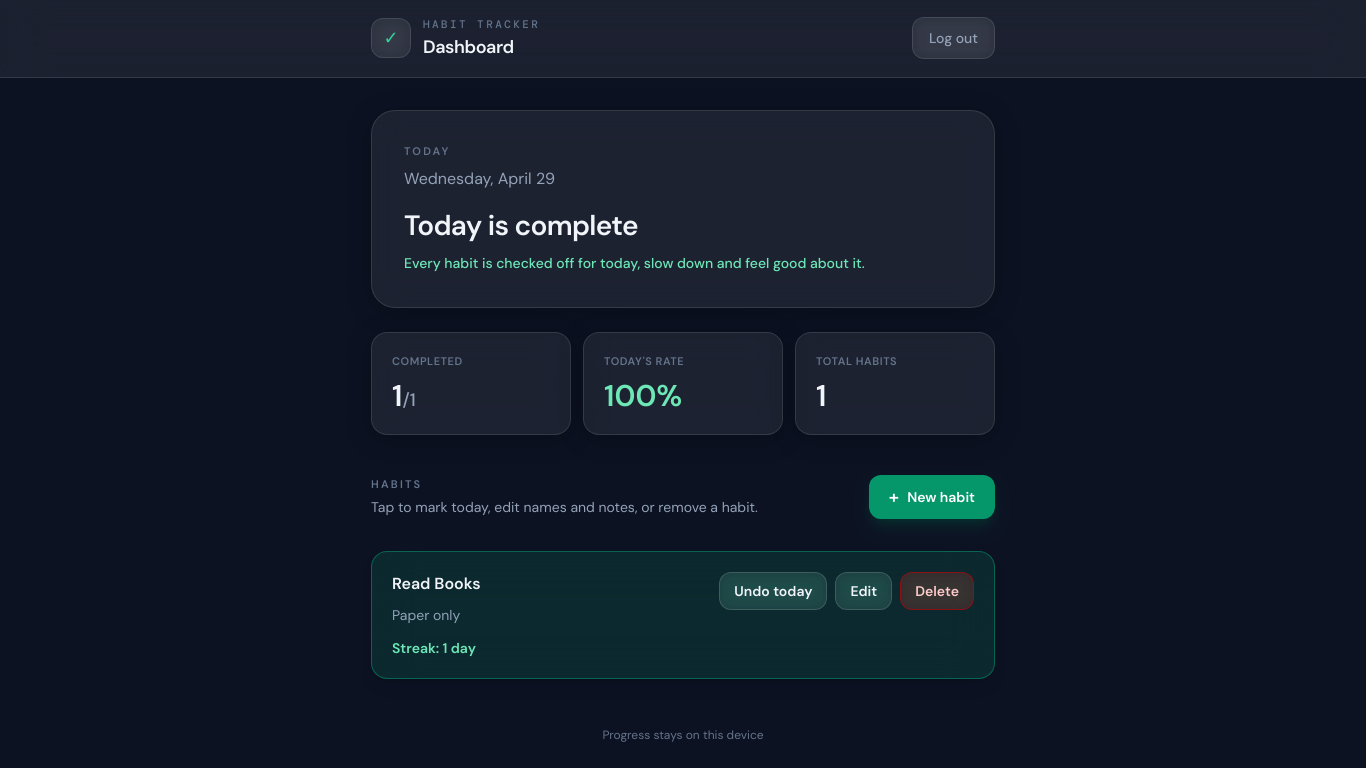
Test: habit form › edits an existing habit and preserves immutable fields
This screenshot has width=1366, height=768.
Expected: the element with test id "habit-card-read-books" is shown, [371, 551, 995, 679]
Step 1. Click the button with test id "habit-edit-read-books" → (864, 591), box [836, 572, 892, 610]
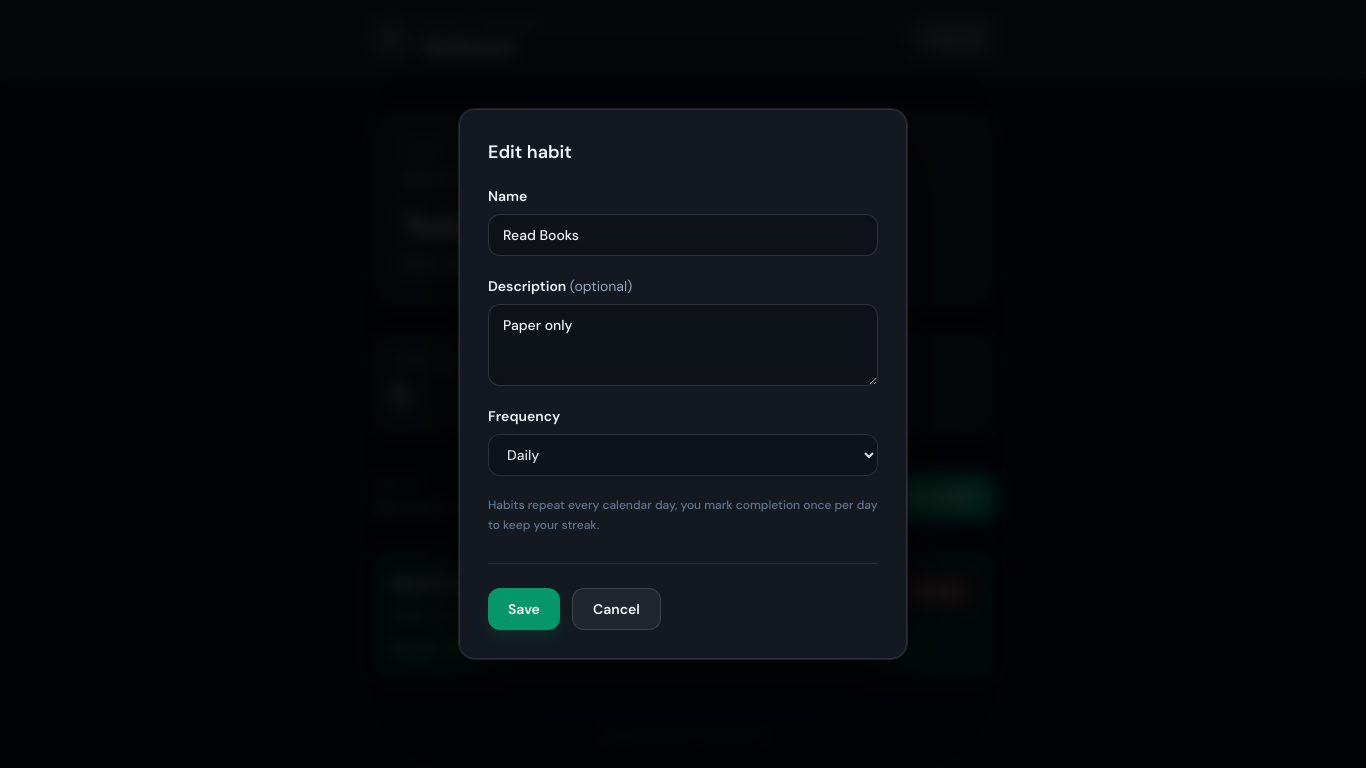
Step 2. Replace the text in the field with test id "habit-name-input" with "Read Novels" → (683, 235), box [488, 214, 878, 256]
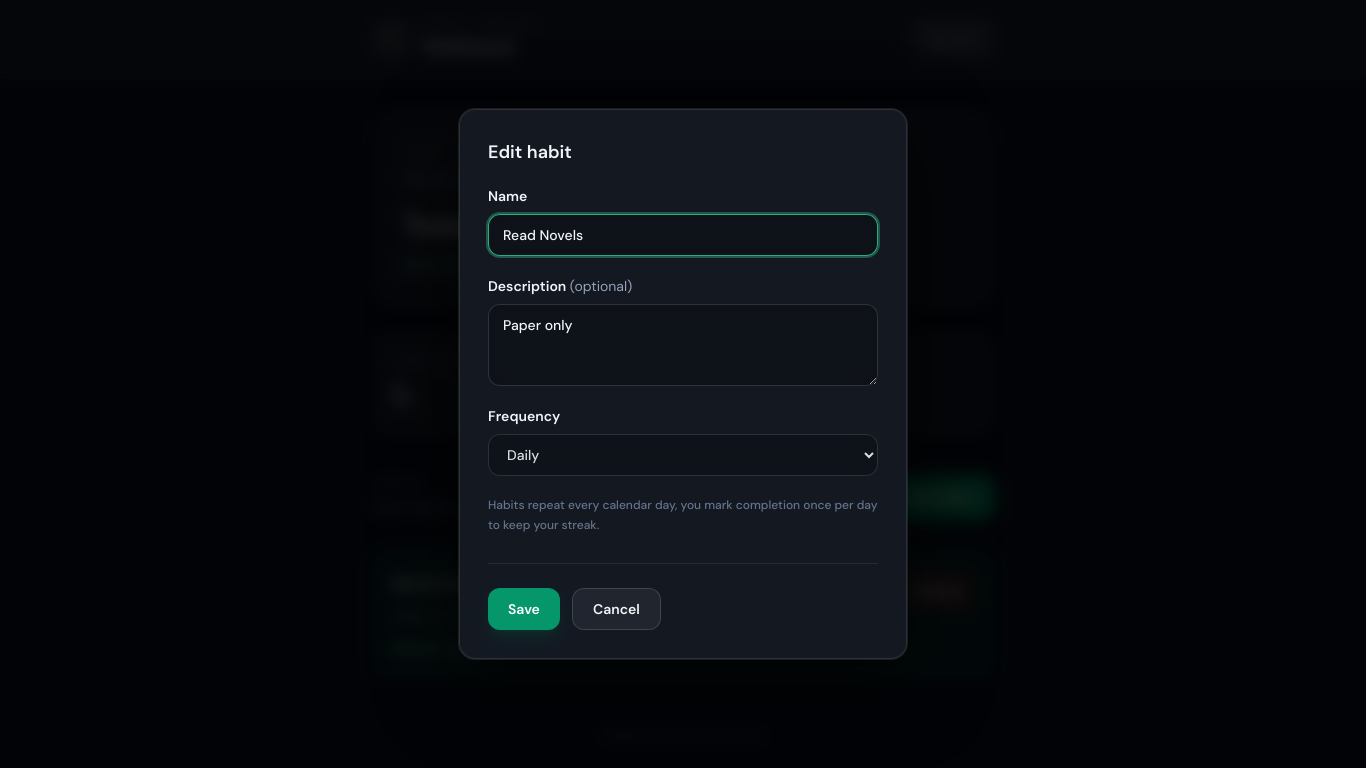
Step 3. Replace the text in the text box with test id "habit-description-input" with "Fiction" → (683, 345), box [488, 304, 878, 386]
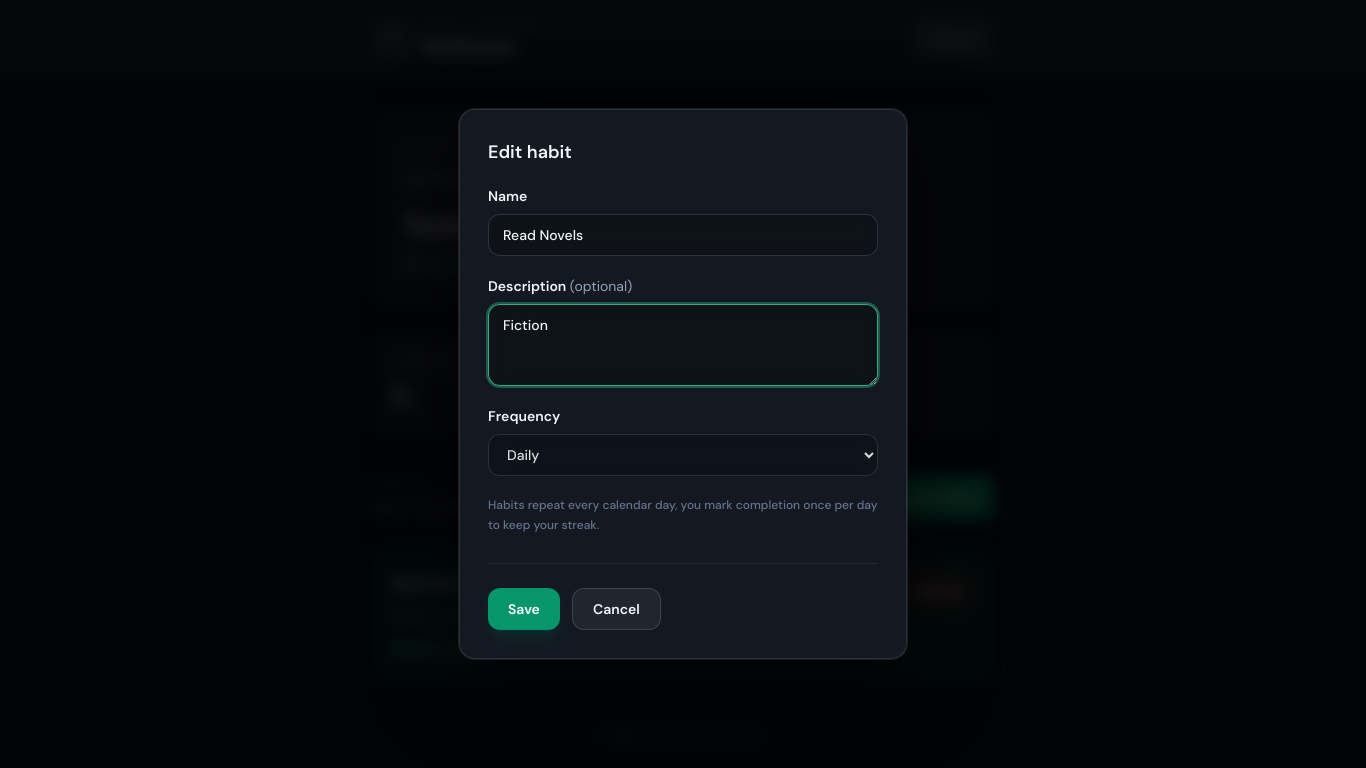
Step 4. Click the button with test id "habit-save-button" → (524, 609), box [488, 588, 560, 630]
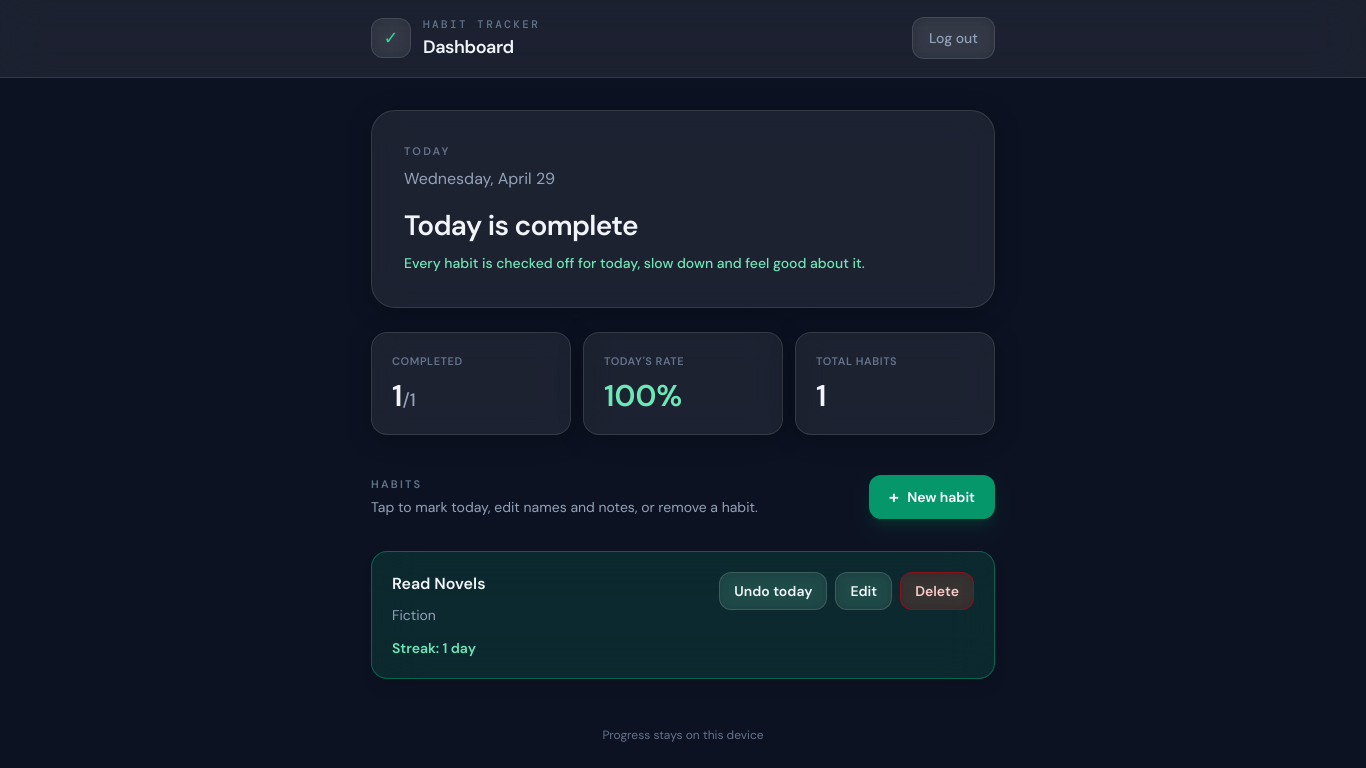
Now the element with test id "habit-card-read-novels" is shown, box [371, 551, 995, 679]
Now the heading "Read Novels" is shown, box [392, 573, 486, 594]
Now the text "Fiction" is shown, box [392, 606, 436, 624]
